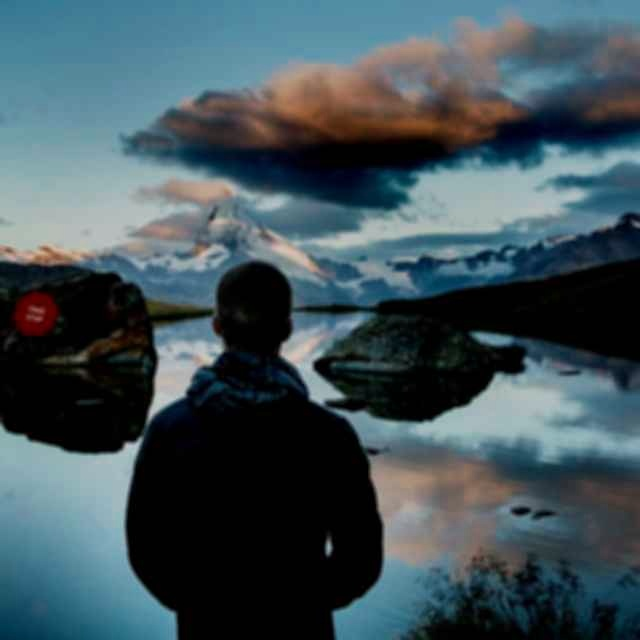FAKE_STOP: (12, 291, 59, 337)
